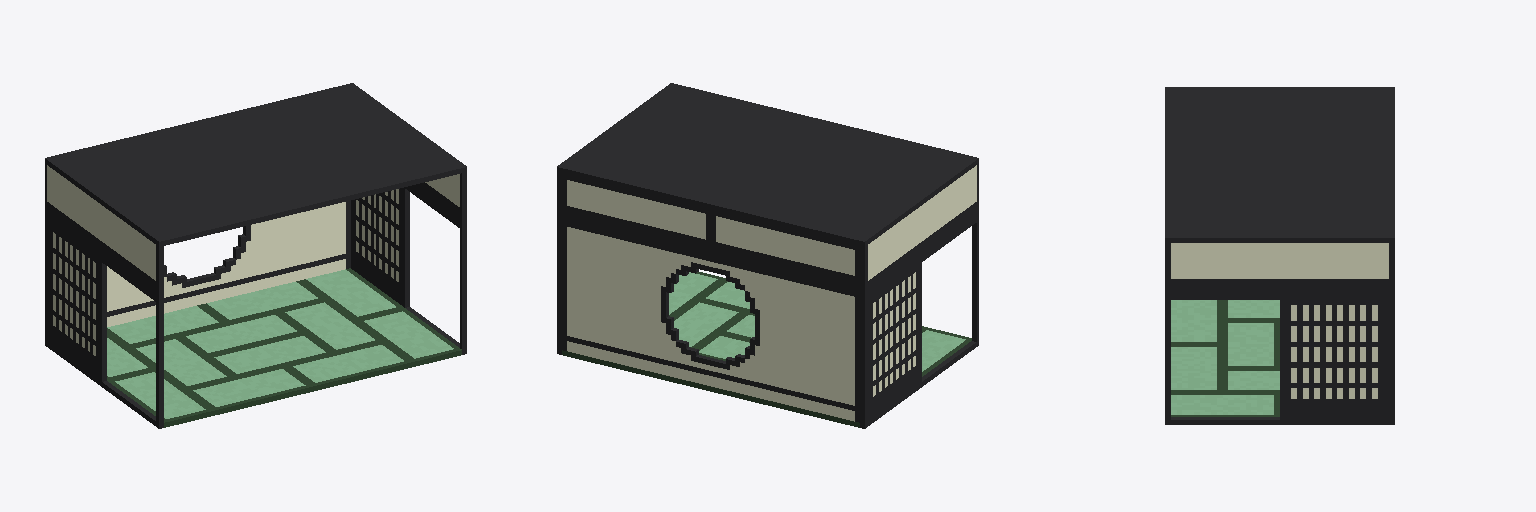
The picture shows the model from 3 angles: view 1: azimuth 30°, elevation 25°; view 2: azimuth 150°, elevation 25°; view 3: azimuth 270°, elevation 25°; orthographic projection.
Visible parts, largest first — view 1: object 1; view 2: object 1; view 3: object 1.
Part boxes in pixels (x1,y1,x2,y2): object 1: (45, 83, 466, 428); object 1: (557, 83, 978, 428); object 1: (1165, 87, 1394, 424).
Size of the model in its own units: 6.2 by 3.6 by 4.
1 materials, 1 textured.